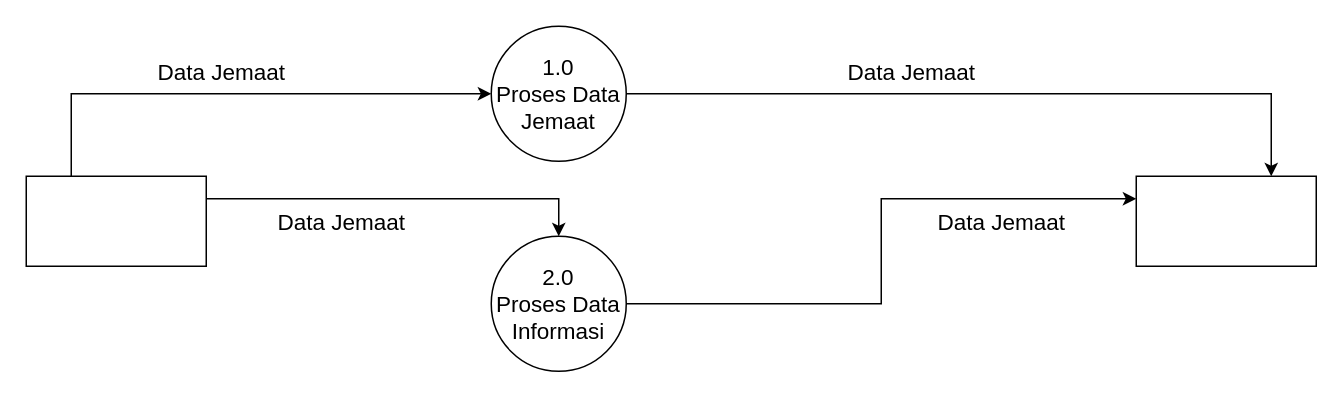
The diagram is 1343 pixels wide and 398 high, and some of its shapes have lost their labels. The shapes that lost their labels are listed below. From the top down, each one's box as (x1, y1, x2, y2) in pixels, then its label:
(25, 175, 206, 266): Admin
(1135, 175, 1316, 266): Customer
